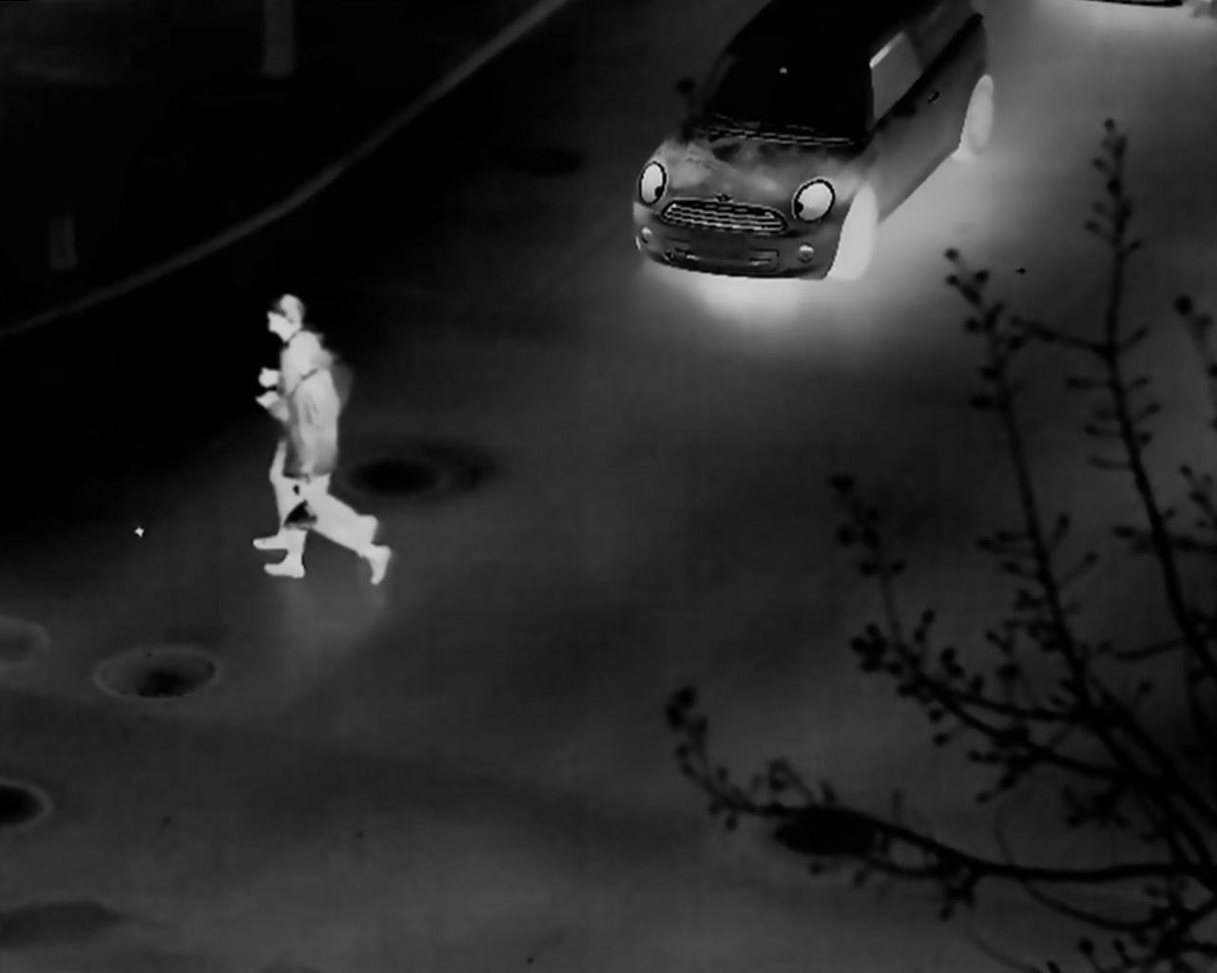person: (258, 341, 392, 580), (241, 290, 334, 535)
